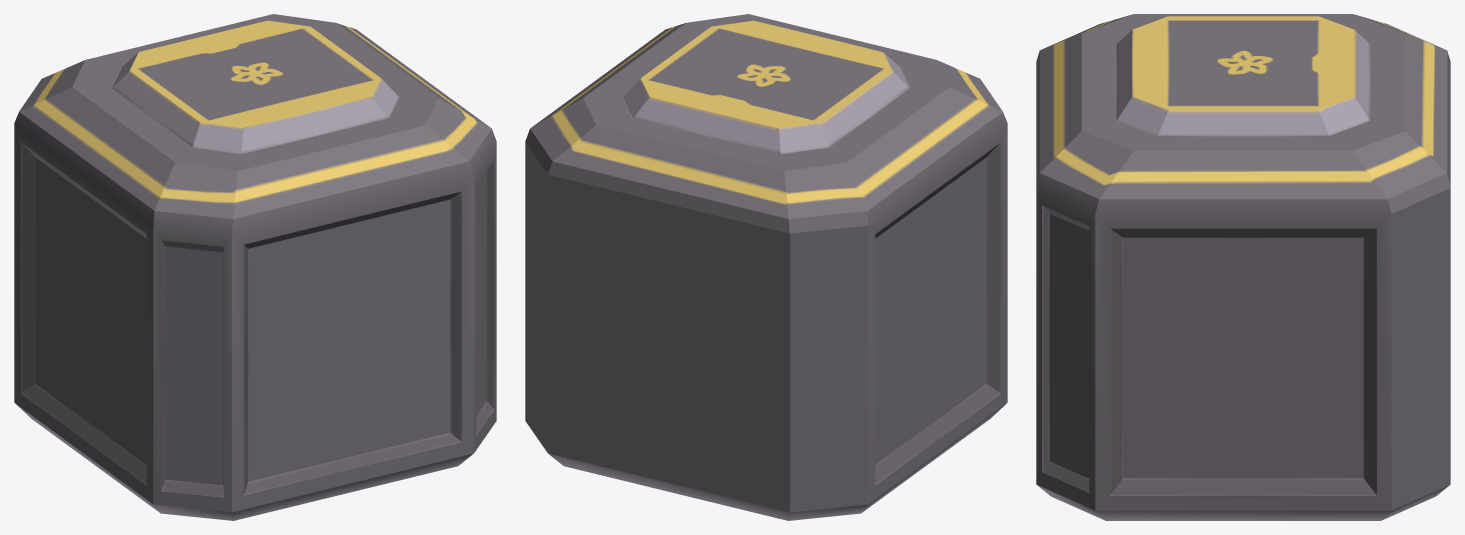
File: Crate.fbx
The picture shows the model from 3 angles, left to right: view 1: azimuth 30°, elevation 25°; view 2: azimuth 150°, elevation 25°; view 3: azimuth 270°, elevation 25°; orthographic projection. The views are drawn at different scales.
Visible parts, largest first — view 1: polySurface264; view 2: polySurface264; view 3: polySurface264.
Part boxes in pixels (x1,y1,x2,y2): polySurface264: [14, 14, 496, 520]; polySurface264: [525, 14, 1007, 520]; polySurface264: [1036, 14, 1450, 520].
Bounding box in the file's own units: 12.74 × 12.51 × 12.53.
Materials: 1 (1 with a texture image).
